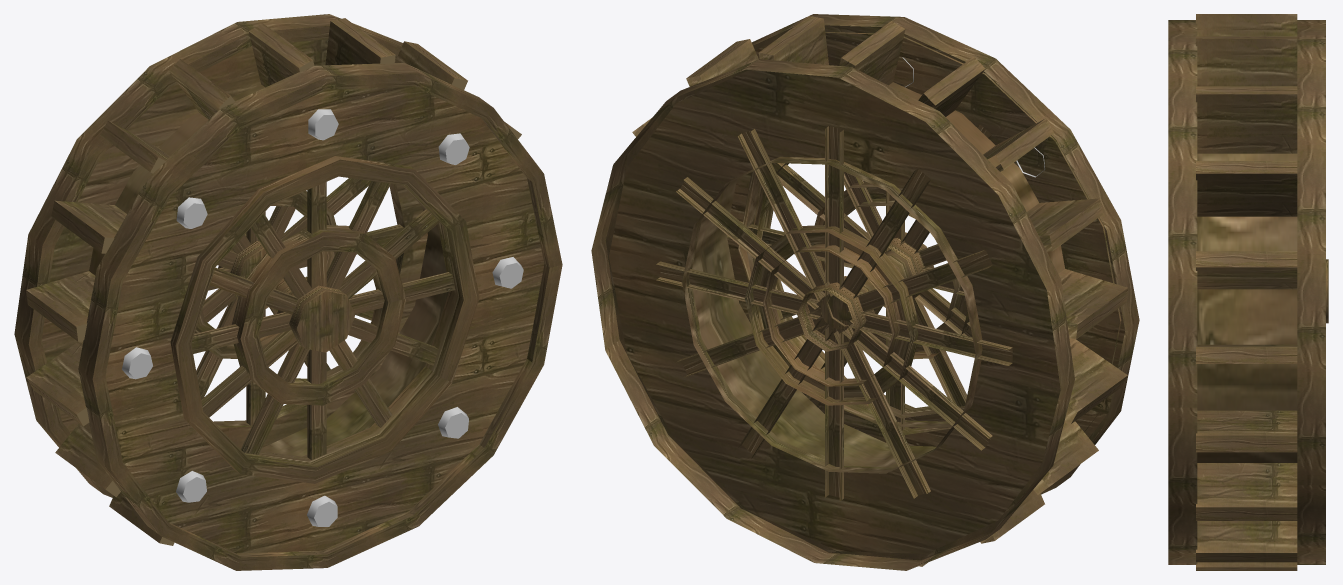
File: SM_Town004_SC.FBX
3 renders of one model, left to right at view 1: azimuth 30°, elevation 25°; view 2: azimuth 150°, elevation 25°; view 3: azimuth 270°, elevation 25°, orthographic.
Parts seen in each view (by area): view 1: SM_Town004_SC; view 2: SM_Town004_SC; view 3: SM_Town004_SC.
Boxes of the visible parts, x1,y1,x2,y2 form: SM_Town004_SC: (14, 14, 562, 570); SM_Town004_SC: (591, 14, 1139, 570); SM_Town004_SC: (1168, 14, 1328, 570).
Size of the model in its own units: 2266 by 659 by 2300.
